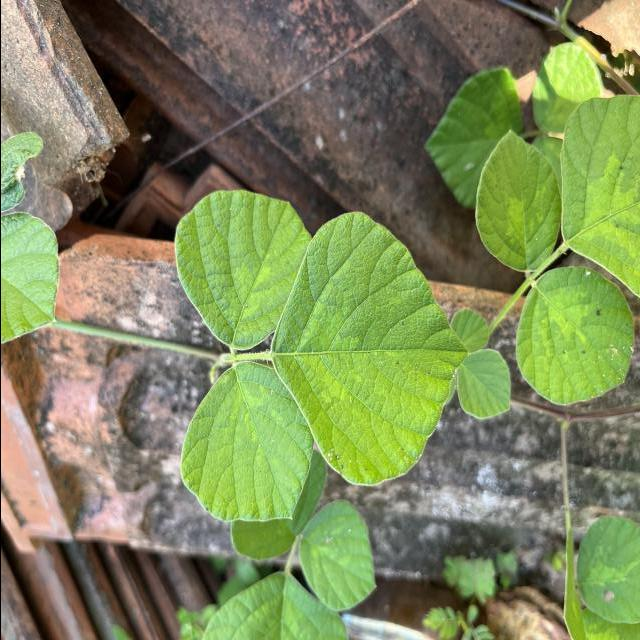Pseudarthria viscida: (172, 188, 471, 524)
